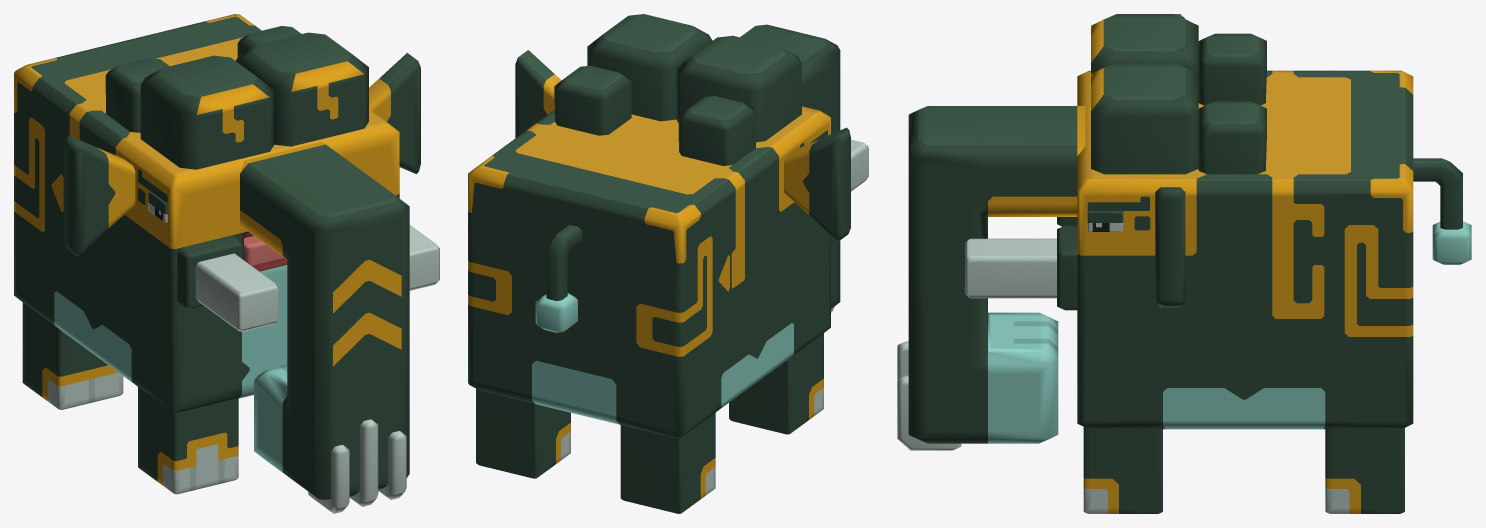
3 renders of one model, left to right at view 1: azimuth 30°, elevation 25°; view 2: azimuth 150°, elevation 25°; view 3: azimuth 270°, elevation 25°, orthographic. The views are drawn at different scales.
Visible parts, largest first — view 1: model; view 2: model; view 3: model.
Boxes of the visible parts, <box> form: model: <box>14,14,439,513</box>; model: <box>468,14,868,513</box>; model: <box>897,14,1471,513</box>.
Size of the model in its own units: 3.27 by 3.44 by 4.46.
